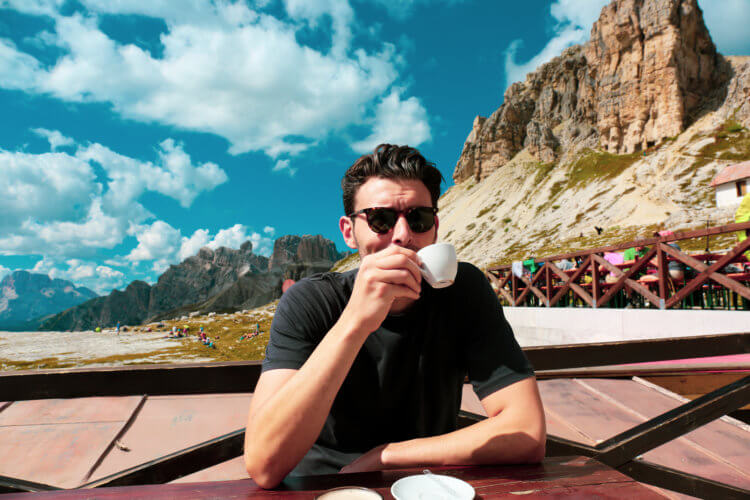drinking: (298, 149, 524, 372)
